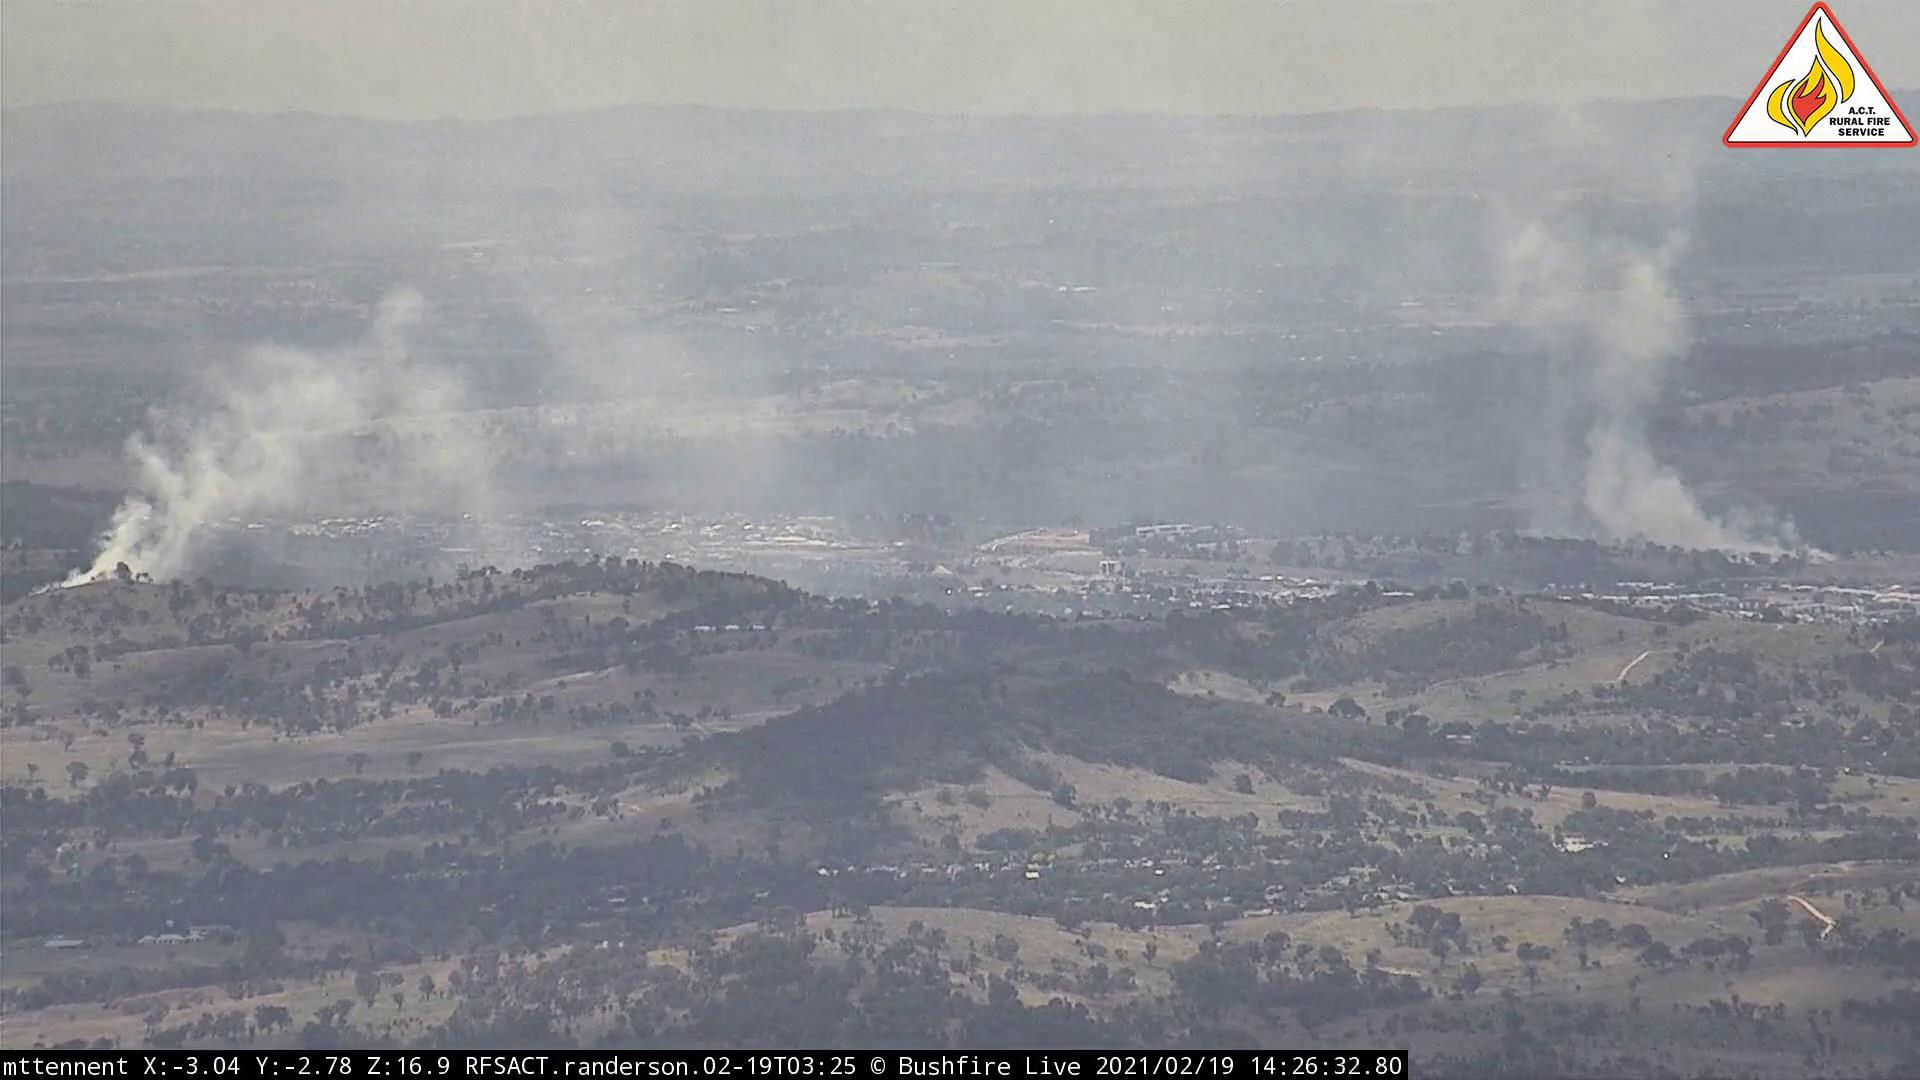Smoke: (1414, 165, 1844, 564), (46, 328, 462, 599)
